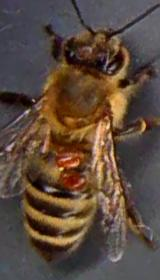varroa_mite: (60, 169, 88, 198), (51, 149, 83, 173)
